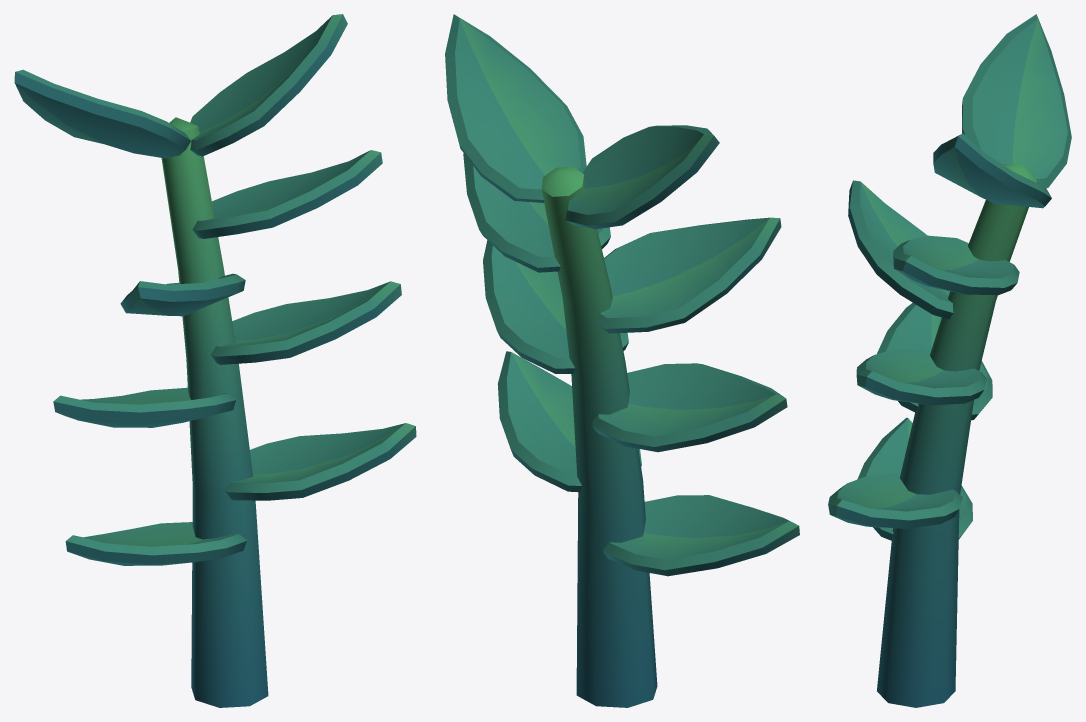
Rendered from Zz_Plant_Leaf.glb.
The picture shows the model from 3 angles, left to right: view 1: azimuth 30°, elevation 25°; view 2: azimuth 150°, elevation 25°; view 3: azimuth 270°, elevation 25°; orthographic projection. The views are drawn at different scales.
Visible parts, largest first — view 1: zzplant_leaf_medium_A; view 2: zzplant_leaf_medium_A; view 3: zzplant_leaf_medium_A.
Part boxes in pixels (<box>): zzplant_leaf_medium_A: <box>14,14,416,707</box>; zzplant_leaf_medium_A: <box>445,14,799,707</box>; zzplant_leaf_medium_A: <box>828,14,1071,707</box>.
Size of the model in its own units: 0.6311 by 1.2 by 0.4291.
Materials: 1 (1 with a texture image).
